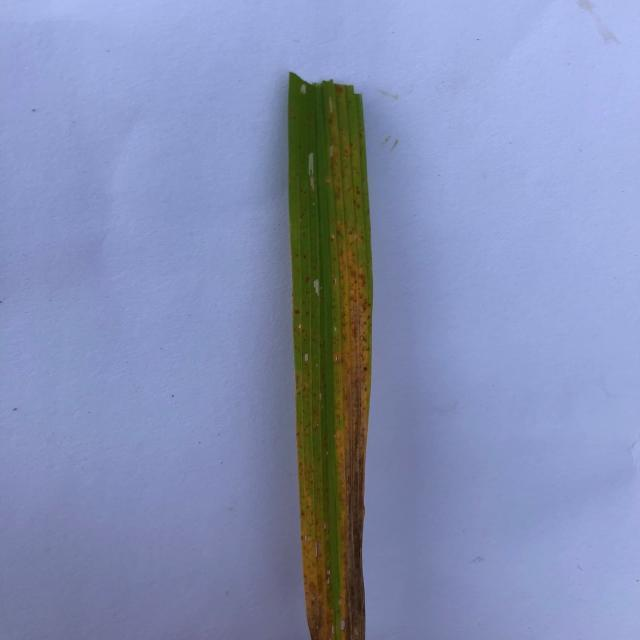Rice Tungro: (331, 141, 377, 566), (297, 470, 333, 640)
